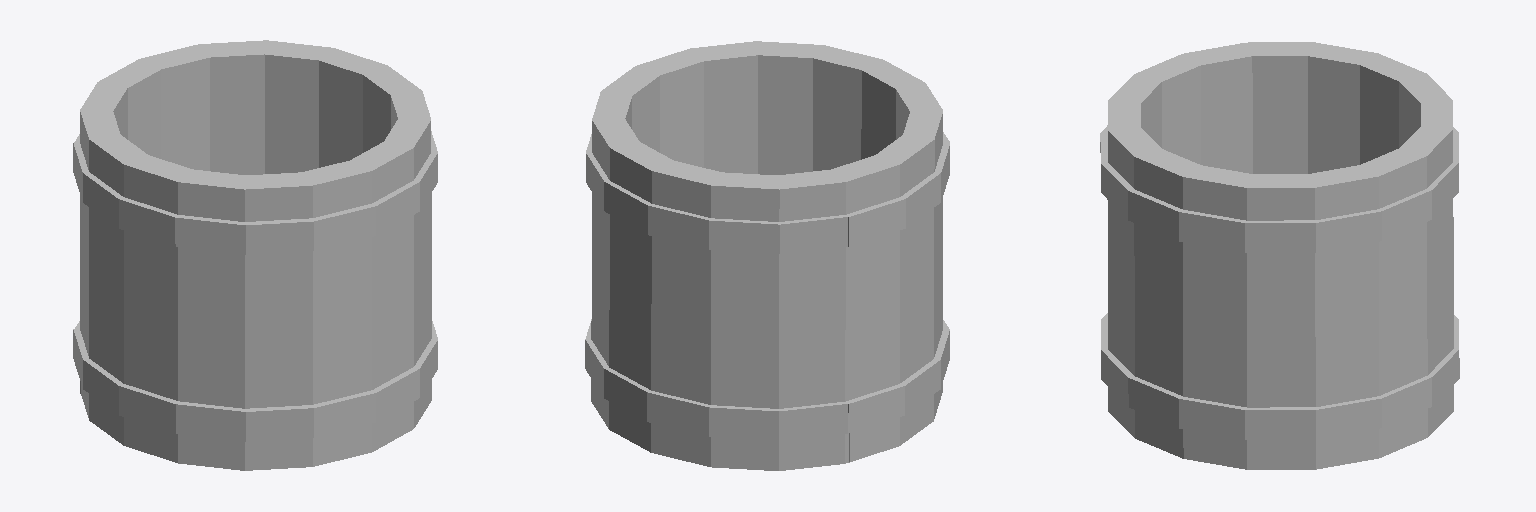
3 views of the same model, side by side, from view 1: azimuth 30°, elevation 25°; view 2: azimuth 150°, elevation 25°; view 3: azimuth 270°, elevation 25° (orthographic).
Visible parts, largest first — view 1: bone8, bone7, bone10, bone6, bone11, bone5, bone17, bone16, bone18, bone15, bone12, bone2 (+18 smaller); view 2: bone2, bone3, bone18, bone4, bone17, bone5, bone11, bone12, bone10, bone13, bone16, bone8 (+18 smaller); view 3: bone14, bone15, bone13, bone12, bone16, bone5, bone6, bone4, bone17, bone11, bone3, bone7 (+18 smaller).
Boxes of the visible parts, x1=… form: bone8: x1=240, y1=172, x2=312, y2=470; bone7: x1=178, y1=169, x2=251, y2=470; bone10: x1=297, y1=161, x2=371, y2=466; bone6: x1=124, y1=153, x2=189, y2=462; bone11: x1=346, y1=142, x2=413, y2=451; bone5: x1=89, y1=135, x2=147, y2=445; bone17: x1=199, y1=40, x2=269, y2=174; bone16: x1=259, y1=40, x2=331, y2=173; bone18: x1=141, y1=44, x2=209, y2=170; bone15: x1=319, y1=48, x2=387, y2=167; bone12: x1=383, y1=116, x2=431, y2=427; bone2: x1=99, y1=59, x2=160, y2=158; bone2: x1=711, y1=172, x2=782, y2=470; bone3: x1=771, y1=169, x2=845, y2=470; bone18: x1=651, y1=160, x2=726, y2=466; bone4: x1=834, y1=154, x2=899, y2=463; bone17: x1=609, y1=140, x2=676, y2=452; bone5: x1=876, y1=134, x2=934, y2=445; bone11: x1=755, y1=41, x2=823, y2=174; bone12: x1=690, y1=41, x2=763, y2=173; bone10: x1=813, y1=45, x2=882, y2=170; bone13: x1=637, y1=49, x2=703, y2=167; bone16: x1=591, y1=116, x2=639, y2=428; bone8: x1=861, y1=60, x2=924, y2=159; bone14: x1=1246, y1=174, x2=1315, y2=469; bone15: x1=1305, y1=164, x2=1378, y2=469; bone13: x1=1183, y1=165, x2=1252, y2=469; bone12: x1=1134, y1=147, x2=1204, y2=458; bone16: x1=1358, y1=147, x2=1427, y2=457; bone5: x1=1246, y1=42, x2=1314, y2=173; bone6: x1=1183, y1=43, x2=1257, y2=173; bone4: x1=1303, y1=42, x2=1377, y2=173; bone17: x1=1397, y1=124, x2=1453, y2=436; bone11: x1=1108, y1=125, x2=1163, y2=437; bone3: x1=1356, y1=53, x2=1426, y2=164; bone7: x1=1134, y1=54, x2=1201, y2=164.
Bounding box in the file's own units: 10.97 × 9.53 × 10.97.